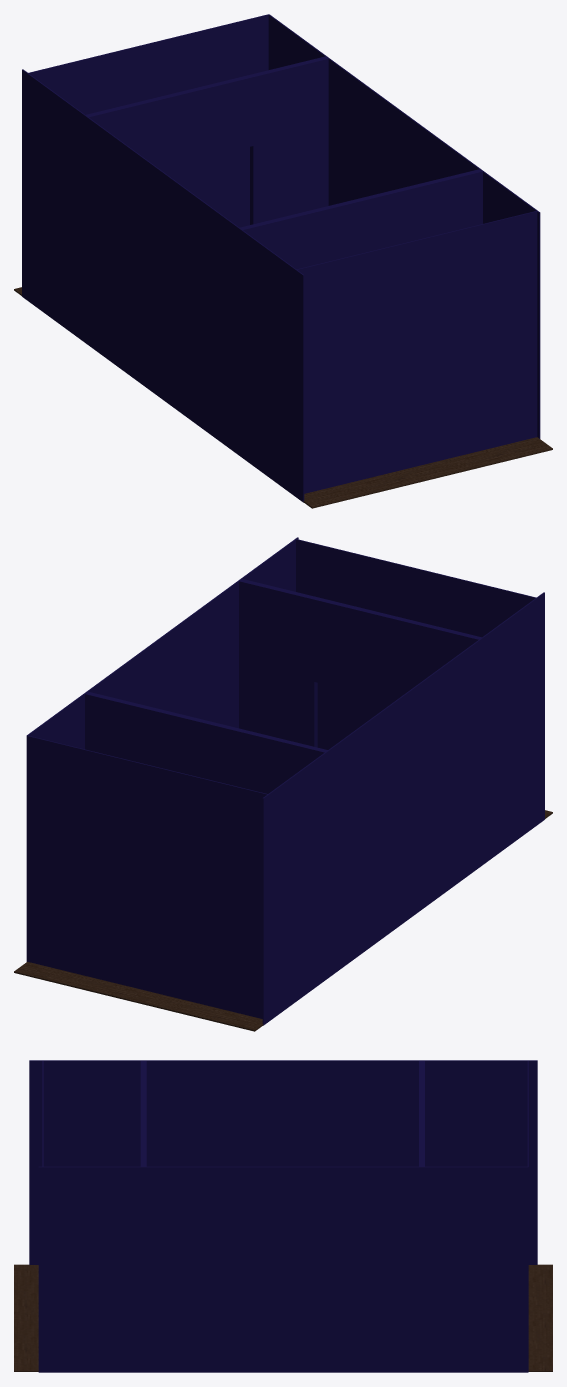
Rendered from Interiors_DarkBlue.glb.
The picture shows the model from 3 angles, top to bottom: view 1: azimuth 30°, elevation 25°; view 2: azimuth 150°, elevation 25°; view 3: azimuth 270°, elevation 25°; orthographic projection. The views are drawn at different scales.
Visible parts, largest first — view 1: Wall B, Wall L.001, Wall R, Wall R.001, Wall F, Wall R.002, Floor; view 2: Wall B, Wall R.001, Wall R.002, Wall F, Wall L.001, Wall R, Floor; view 3: Wall F, Wall B, Floor, Wall R.002, Wall R, Wall R.001.
Boxes of the visible parts, bbox=[...] form: Wall B: bbox=[22, 69, 304, 502]; Wall L.001: bbox=[296, 211, 537, 493]; Wall R: bbox=[86, 56, 328, 224]; Wall R.001: bbox=[27, 14, 268, 227]; Wall F: bbox=[268, 14, 540, 438]; Wall R.002: bbox=[240, 169, 482, 269]; Floor: bbox=[14, 287, 552, 508]; Wall B: bbox=[262, 592, 544, 1025]; Wall R.001: bbox=[27, 735, 267, 1018]; Wall R.002: bbox=[239, 579, 481, 747]; Wall F: bbox=[26, 537, 298, 961]; Wall L.001: bbox=[296, 539, 536, 749]; Wall R: bbox=[85, 691, 327, 793]; Floor: bbox=[14, 810, 552, 1031]; Wall F: bbox=[38, 1166, 528, 1372]; Wall B: bbox=[29, 1060, 537, 1264]; Floor: bbox=[14, 1264, 552, 1371]; Wall R.002: bbox=[140, 1061, 146, 1166]; Wall R: bbox=[419, 1061, 424, 1166]; Wall R.001: bbox=[527, 1060, 528, 1371].
Bounding box in the file's own units: 24.23 × 21.71 × 51.65.
5 materials, 3 textured.
